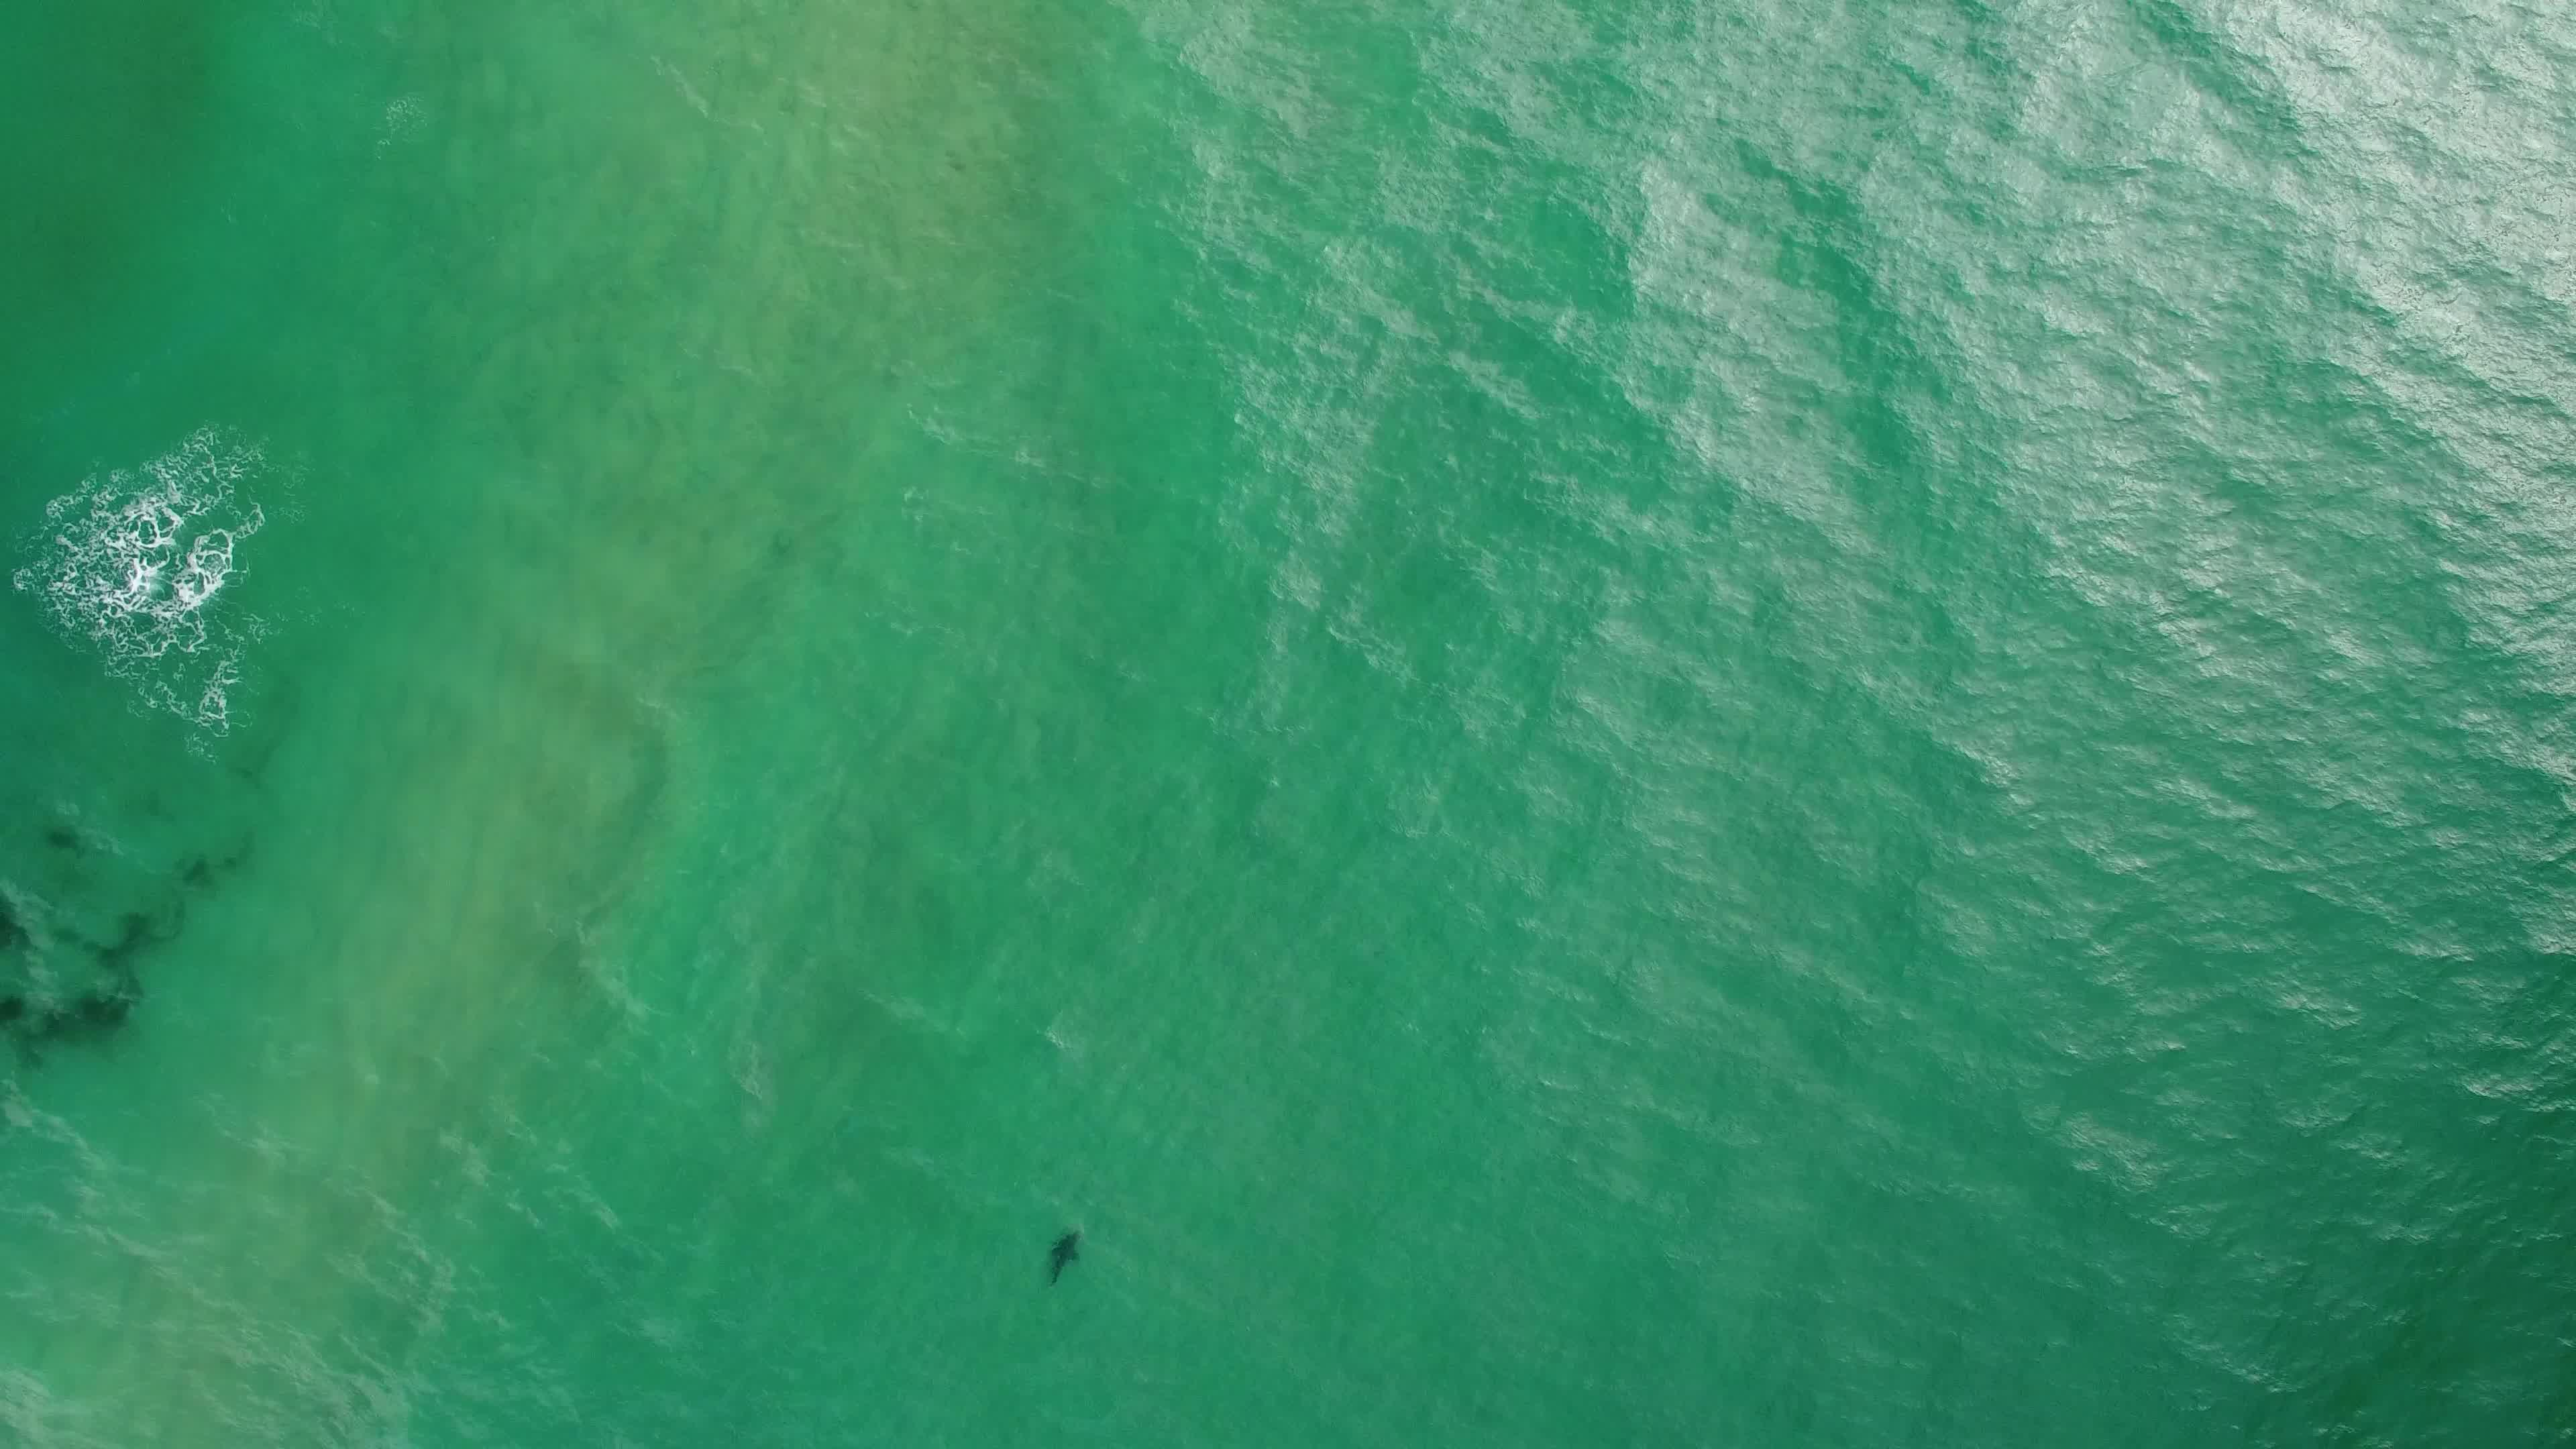shark: (1039, 1224, 1088, 1290)
